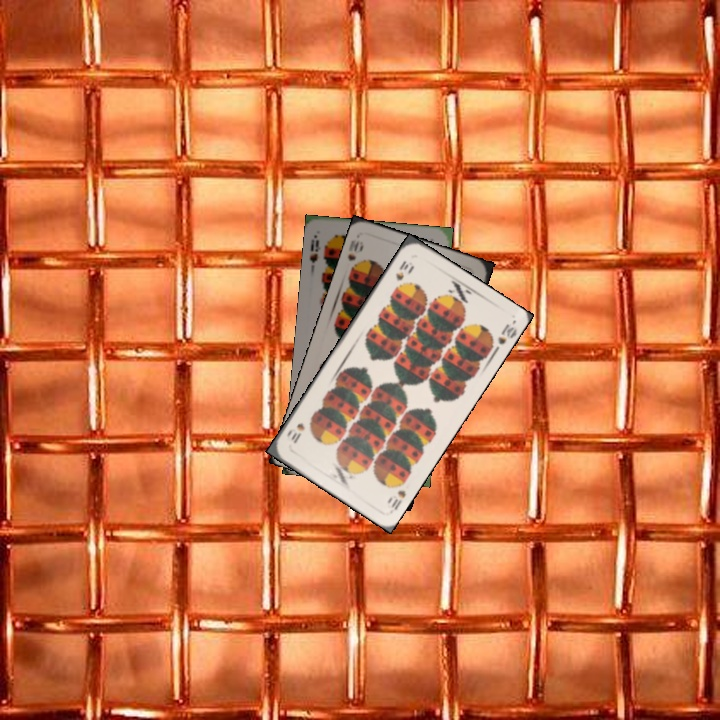S10: (343, 235, 366, 273), (387, 486, 409, 513), (391, 256, 411, 284)
S8: (306, 236, 324, 265)
